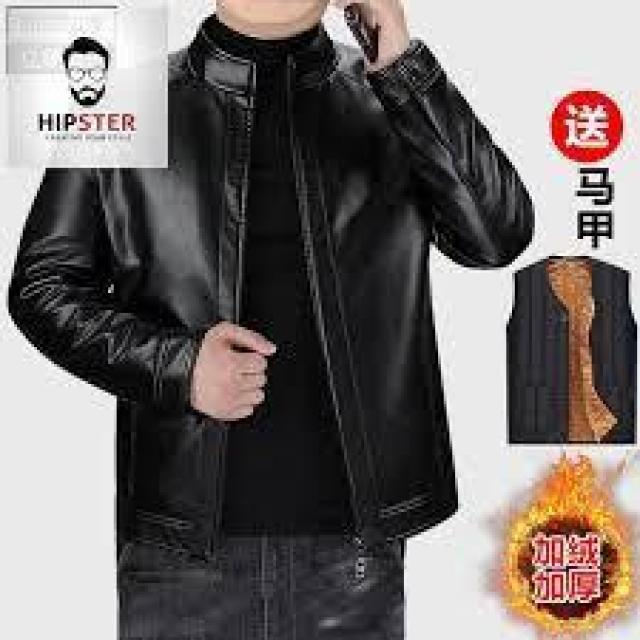jacket: (8, 26, 534, 540)
